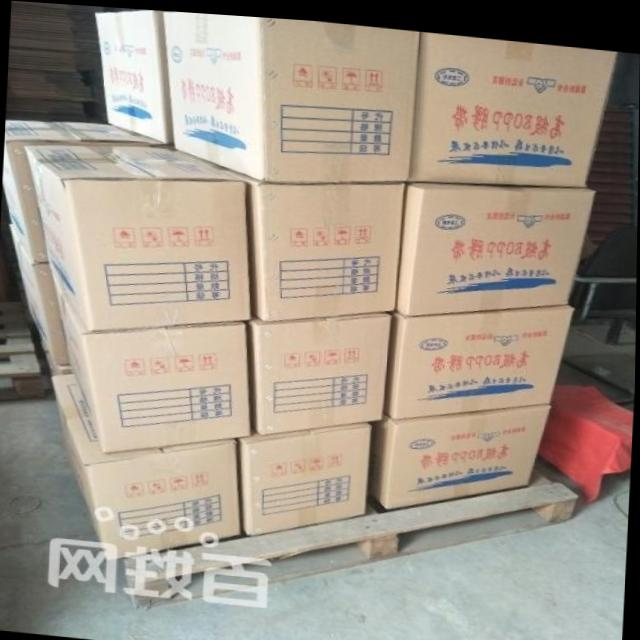box: (163, 9, 420, 177), (23, 144, 252, 329), (174, 146, 405, 317), (51, 371, 243, 559), (52, 272, 252, 450), (405, 25, 618, 179), (395, 175, 595, 310), (3, 119, 166, 263), (385, 296, 575, 415), (369, 395, 553, 503), (246, 304, 394, 430), (236, 416, 373, 532), (93, 8, 172, 140), (10, 223, 72, 362), (41, 335, 74, 376)
